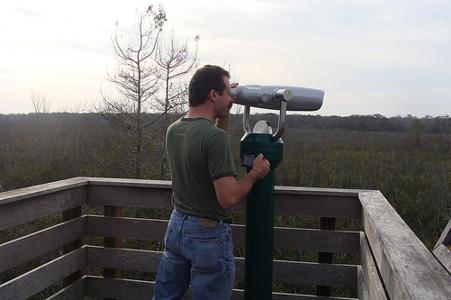person: (153, 65, 271, 300)
